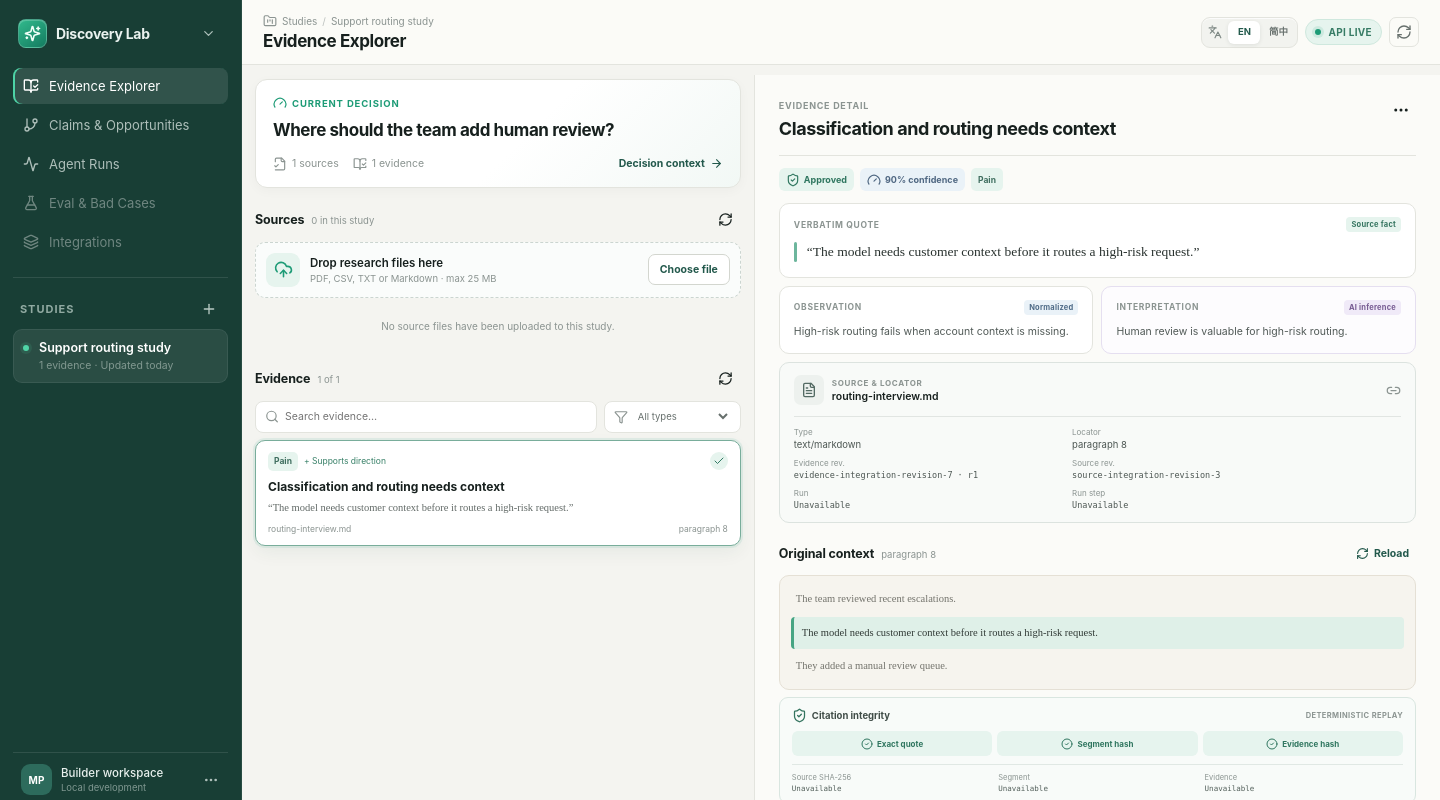
Test: DiscoveryWorkbench navigation and locale integration › makes Claims navigation clickable and updates aria-current without reloading
Expected: the button "Evidence Explorer" is shown, left=13, top=68, right=228, bottom=104
Click the button "Claims & Opportunities": (120, 125) left=13, top=107, right=228, bottom=143
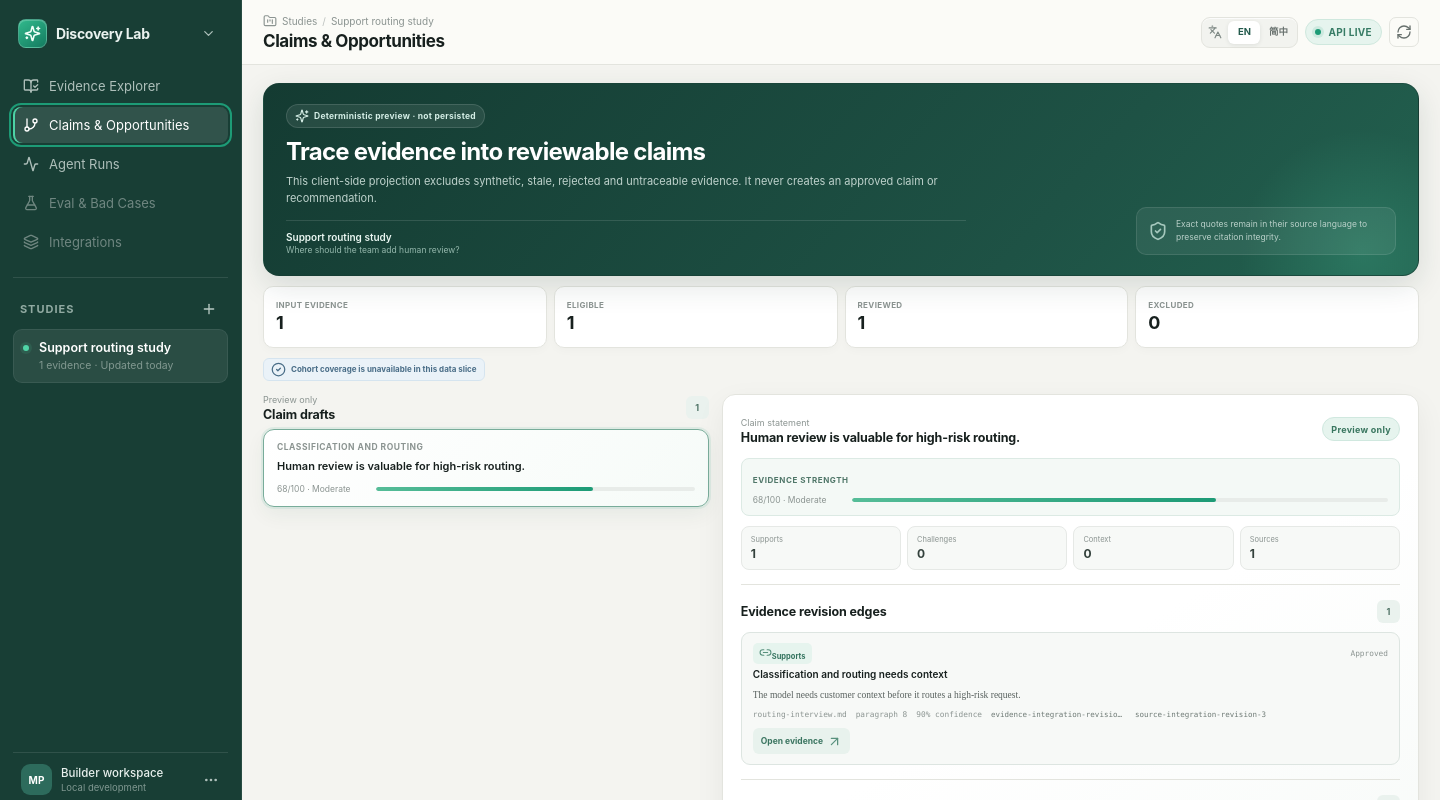
Now the heading "Trace evidence into reviewable claims" is shown, box left=286, top=137, right=705, bottom=166
